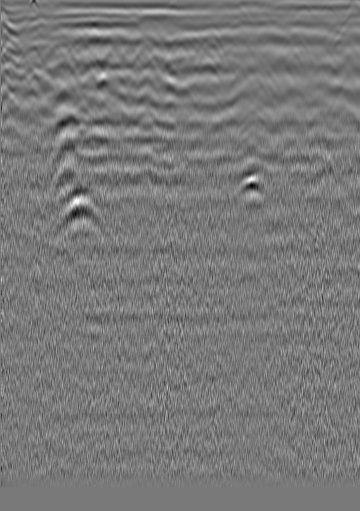가스: (229, 164, 276, 199)
상수: (18, 42, 38, 62)
오수: (288, 25, 308, 45)
우수: (130, 31, 150, 51)
